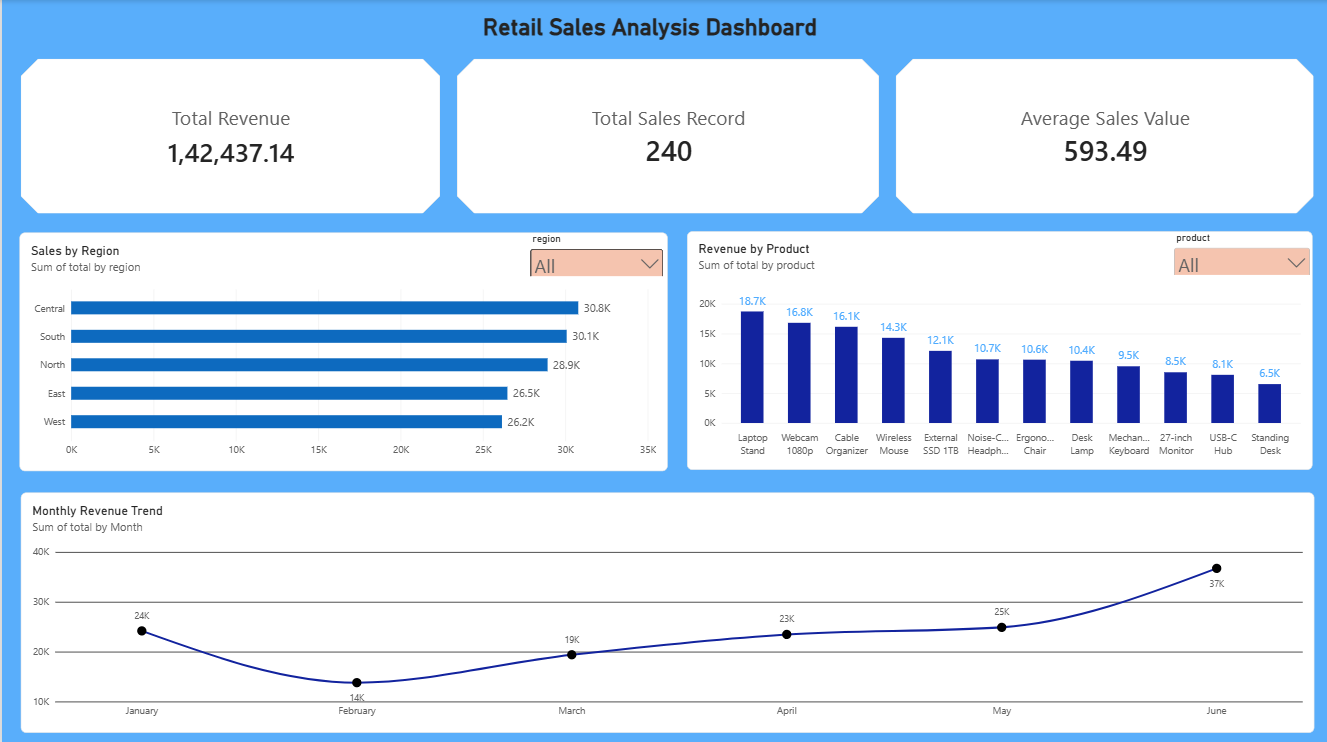

The dashboard page shown, as its layout file describes it:
{"tool":"powerbi","page":{"name":"Page 1","canvas":[1920,1080],"ordinal":0},"visuals":[{"type":"cardVisual","fields":{"Data":["Sample_Data.Total Revenue"]},"box":[26.8,84.4,607.2,224.4],"z":0},{"type":"cardVisual","fields":{"Data":["Sample_Data.Total Sales Record"]},"box":[658.7,84.4,611.3,224.4],"z":1000},{"type":"cardVisual","fields":{"Data":["Sample_Data.Average Sales Value"]},"box":[1294.7,84.4,605.1,224.4],"z":2000},{"type":"clusteredBarChart","title":"Sales by Region","fields":{"Category":["Sample_Data.region"],"Y":["Sum(Sample_Data.total)"]},"box":[26.1,337,938.6,345.8],"z":3000},{"type":"clusteredColumnChart","title":"Revenue by Product","fields":{"Category":["Sample_Data.product"],"Y":["Sum(Sample_Data.total)"]},"box":[992.1,335.5,905.7,345.8],"z":4000},{"type":"lineChart","title":"Monthly Revenue Trend","fields":{"Category":["Sample_Data.date.Variation.Date Hierarchy.Month"],"Y":["Sum(Sample_Data.total)"]},"box":[26.8,712.2,1873.1,347.9],"z":5000},{"type":"textbox","title":"Retail Sales Analysis Dashboard","box":[504.3,0,866.6,70],"z":6000},{"type":"slicer","fields":{"Values":["Sample_Data.region"]},"box":[760.9,337,202.2,63],"z":6001},{"type":"slicer","fields":{"Values":["Sample_Data.product"]},"box":[1691.3,334.8,206.5,63],"z":6002}]}

Visuals, with their boxes in screenshot pixels (x1, y1, x2, y2), scaled from the page's 1920x1080 canvas onto the 1327x742 screenshot:
cardVisual - Sample_Data.Total Revenue: rect(19, 58, 438, 212)
cardVisual - Sample_Data.Total Sales Record: rect(455, 58, 878, 212)
cardVisual - Sample_Data.Average Sales Value: rect(895, 58, 1313, 212)
"Sales by Region" clusteredBarChart: rect(18, 232, 667, 469)
"Revenue by Product" clusteredColumnChart: rect(686, 231, 1312, 468)
"Monthly Revenue Trend" lineChart: rect(19, 489, 1313, 728)
"Retail Sales Analysis Dashboard" textbox: rect(349, 0, 947, 48)
slicer - Sample_Data.region: rect(526, 232, 666, 275)
slicer - Sample_Data.product: rect(1169, 230, 1312, 273)
